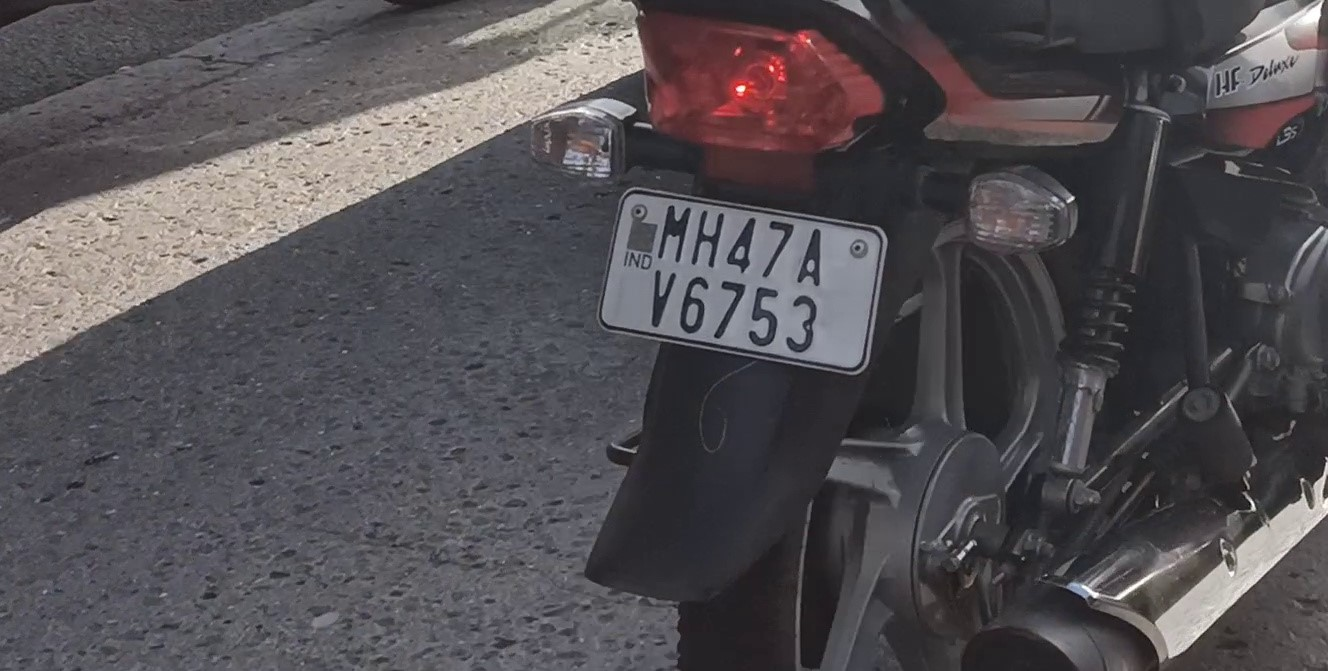MH47AV6753: (599, 190, 884, 371)
